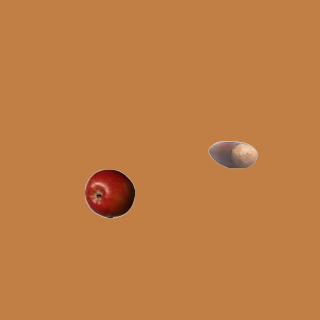Apple Braeburn: (84, 168, 134, 218)
Hazelnut: (207, 129, 257, 179)
